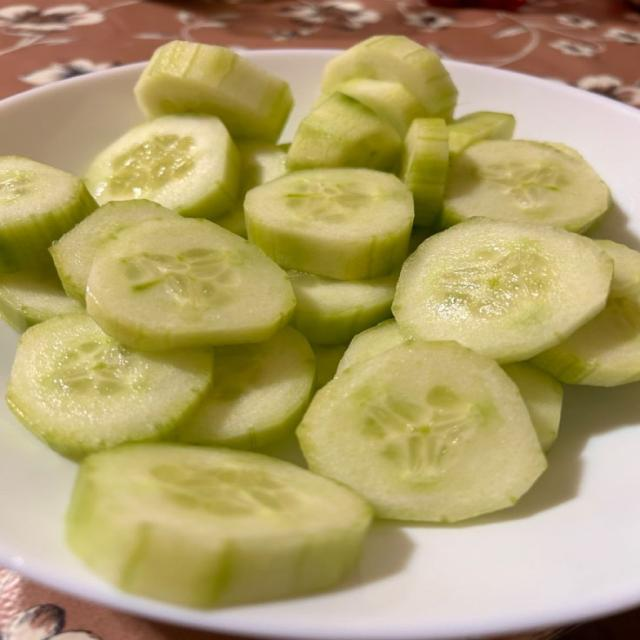cucumber sliced: (67, 444, 371, 608), (297, 342, 546, 521), (394, 218, 613, 362), (7, 313, 213, 458), (87, 216, 294, 350), (246, 169, 413, 280), (178, 327, 315, 449), (86, 115, 239, 219), (134, 41, 293, 141), (440, 141, 609, 232), (534, 241, 639, 386), (50, 200, 176, 302), (322, 36, 457, 120), (0, 156, 96, 272), (287, 93, 401, 170), (289, 272, 397, 344), (215, 139, 286, 237), (503, 362, 563, 452), (336, 79, 427, 137), (503, 363, 562, 451), (400, 119, 448, 226), (0, 270, 83, 331), (337, 319, 406, 373), (448, 112, 515, 157), (595, 239, 639, 296), (312, 345, 347, 390)
